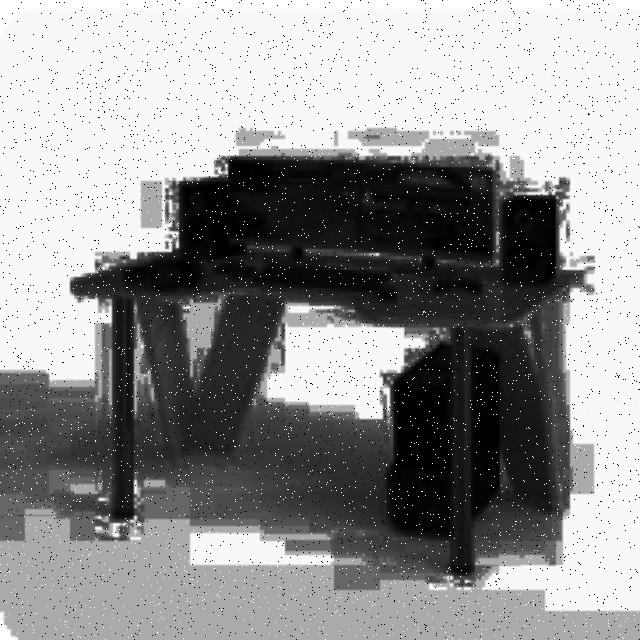table: (70, 242, 577, 572)
